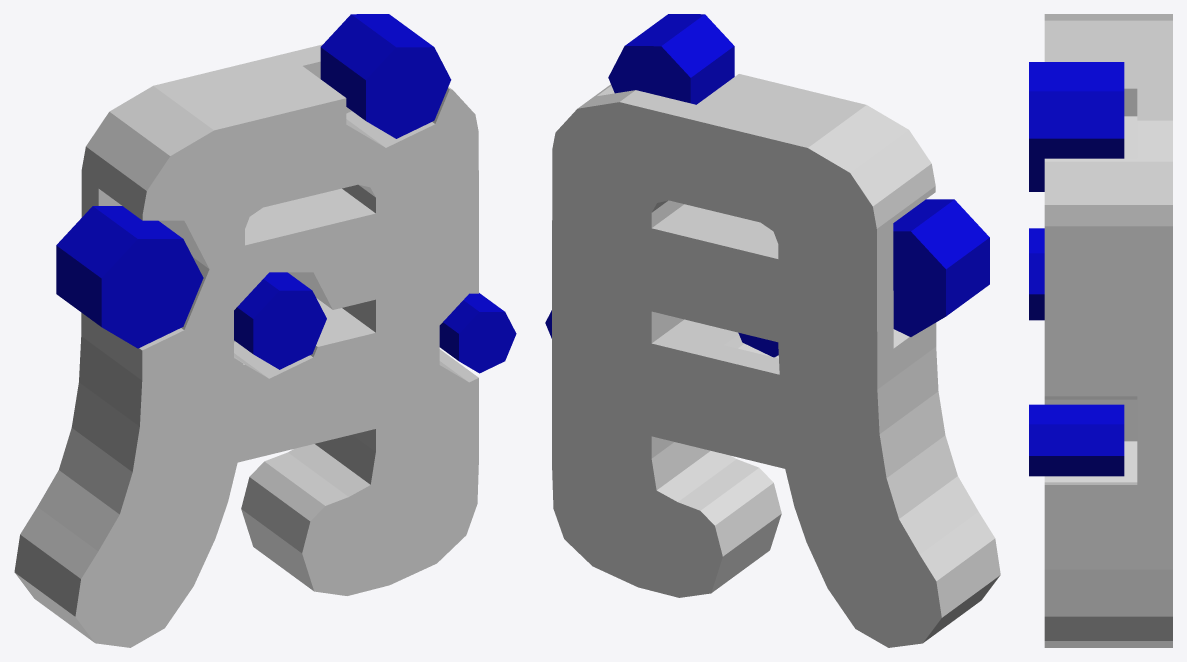
Rendered from Ch_Lite_China_月_01.fbx.
The picture shows the model from 3 angles, left to right: view 1: azimuth 30°, elevation 25°; view 2: azimuth 150°, elevation 25°; view 3: azimuth 270°, elevation 25°; orthographic projection. The views are drawn at different scales.
Visible parts, largest first — view 1: sphere1; view 2: sphere1; view 3: sphere1.
Part boxes in pixels (left/top/right/bottom): sphere1: left=14, top=14, right=516, bottom=647; sphere1: left=545, top=14, right=1000, bottom=647; sphere1: left=1029, top=14, right=1172, bottom=647.
Bounding box in the file's own units: 0.8212 × 0.9843 × 0.2242.
